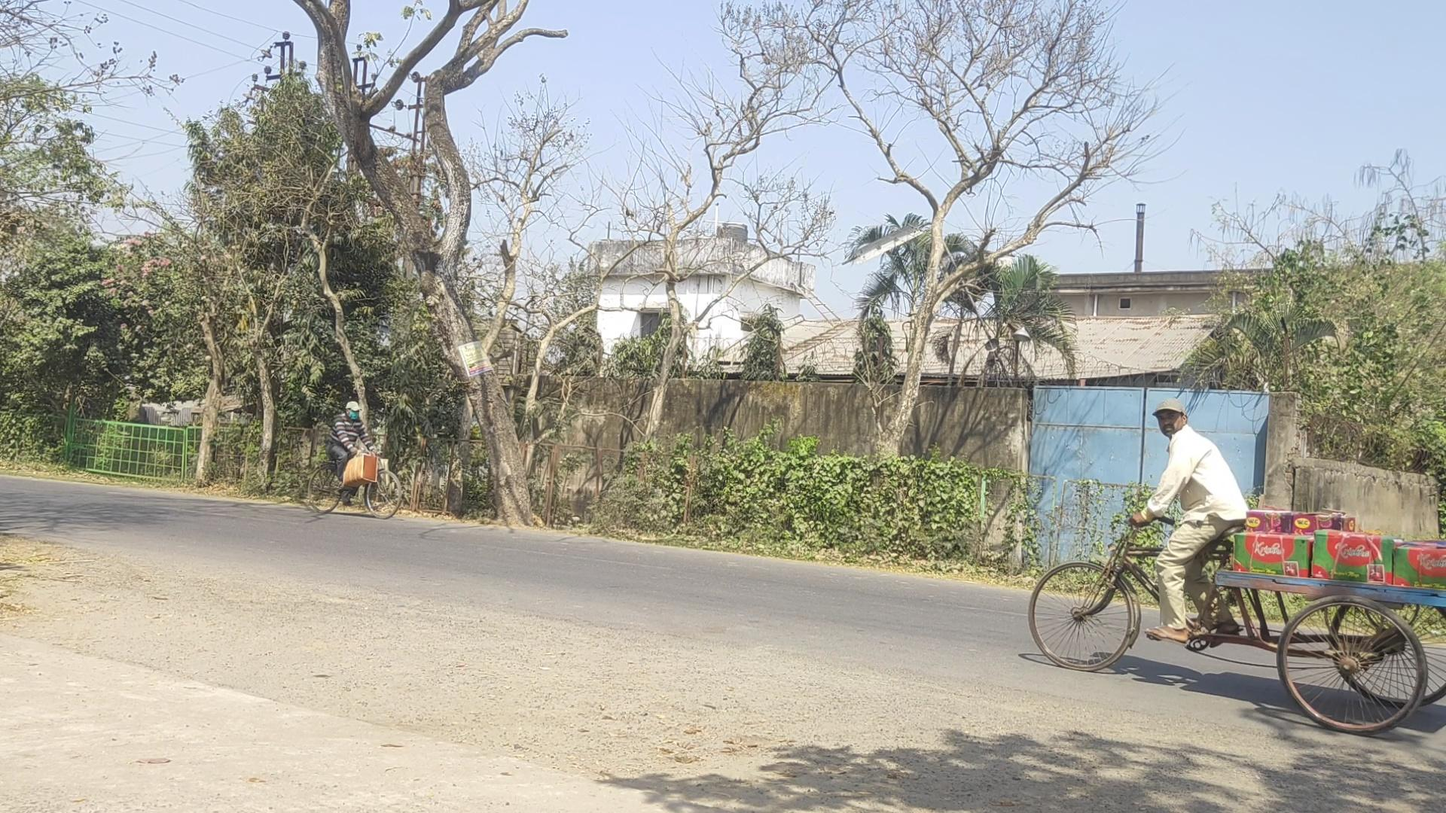bike: (308, 400, 402, 519)
